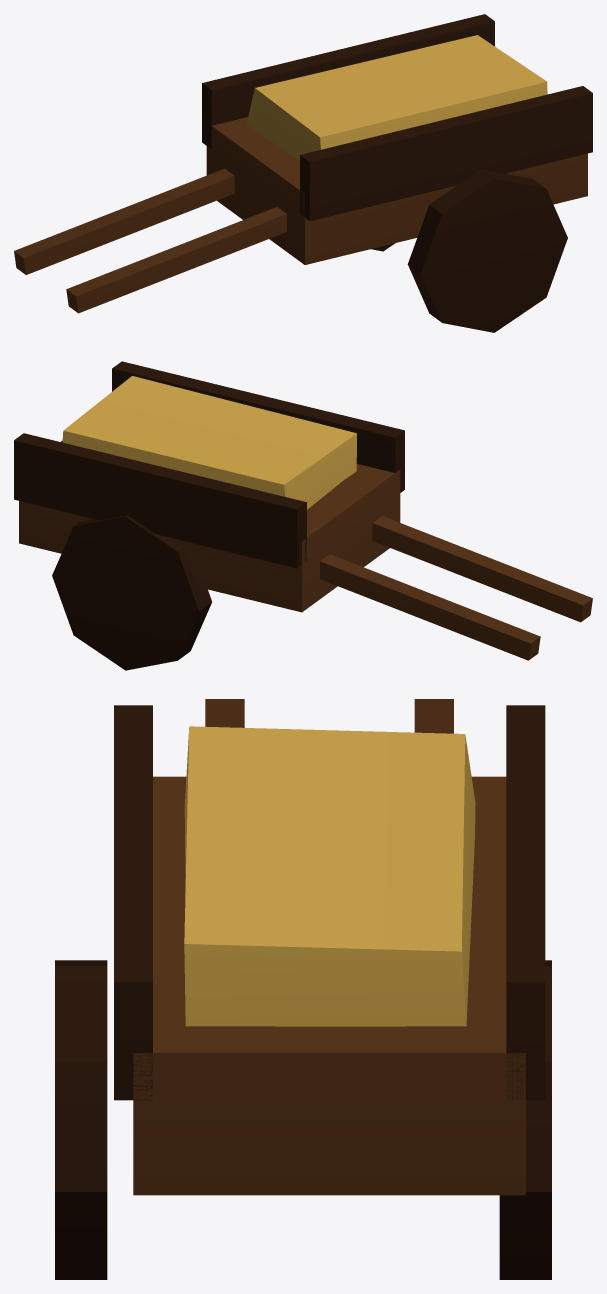
Rendered from cart.glb.
3 renders of one model, top to bottom at view 1: azimuth 30°, elevation 25°; view 2: azimuth 150°, elevation 25°; view 3: azimuth 270°, elevation 25°, orthographic. The views are drawn at different scales.
Visible parts, largest first — view 1: cart; view 2: cart; view 3: cart.
Part boxes in pixels (x1,y1,x2,y2): cart: (14, 14, 592, 332); cart: (14, 361, 592, 670); cart: (55, 699, 551, 1279).
Size of the model in its own units: 0.8722 by 0.3489 by 0.38.
